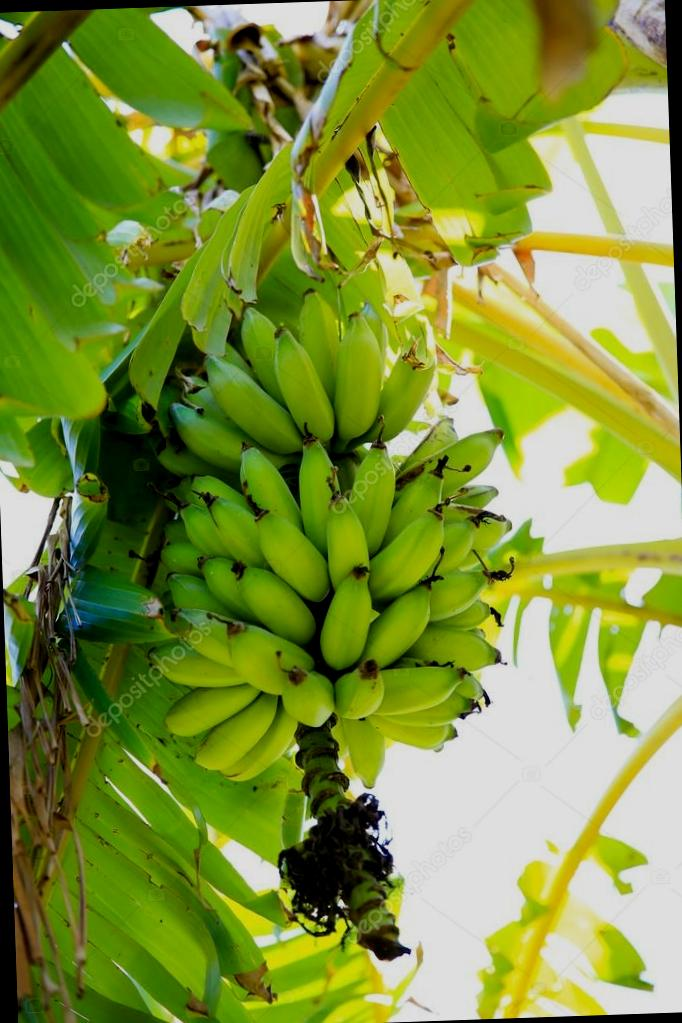Banana Unripe: (63, 233, 576, 986)
